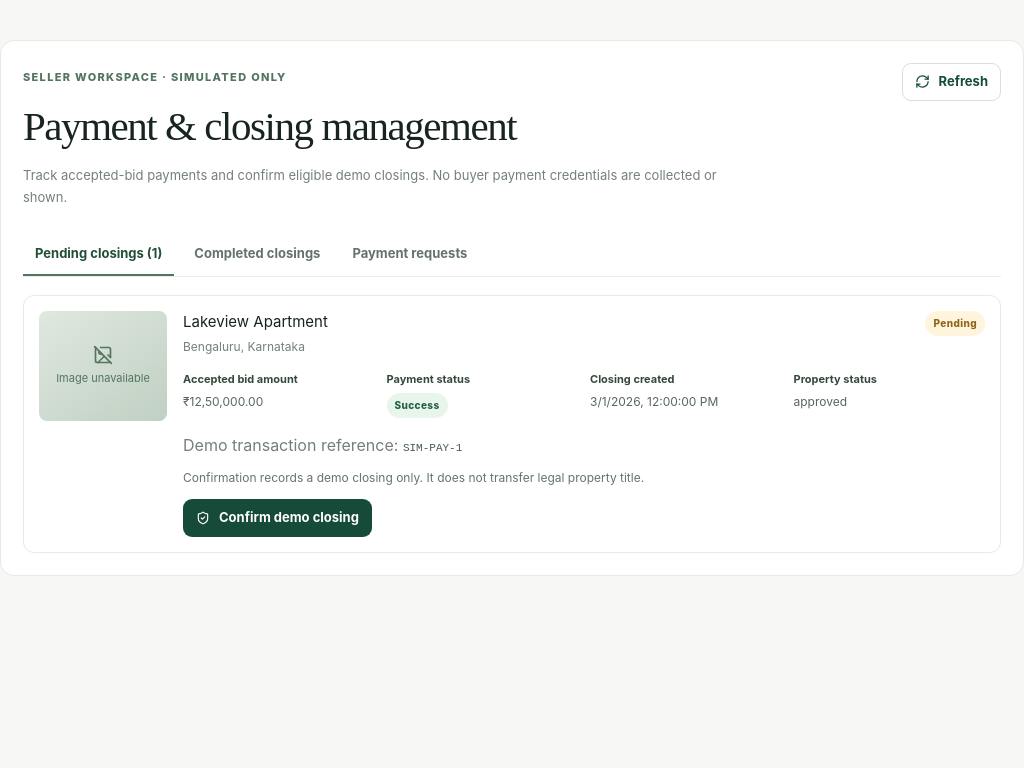
Test: SellerClosingPanel › requires explicit seller confirmation and refreshes the closing after completion
Later steps or results of the test are not shown.
Expected: the heading "Lakeview Apartment" is shown, [183,311,328,333]
What coordinates should you click on to do the following:
click the button "Confirm demo closing"
I would click on:
 (277, 518)
Its box is [183,499,372,537].
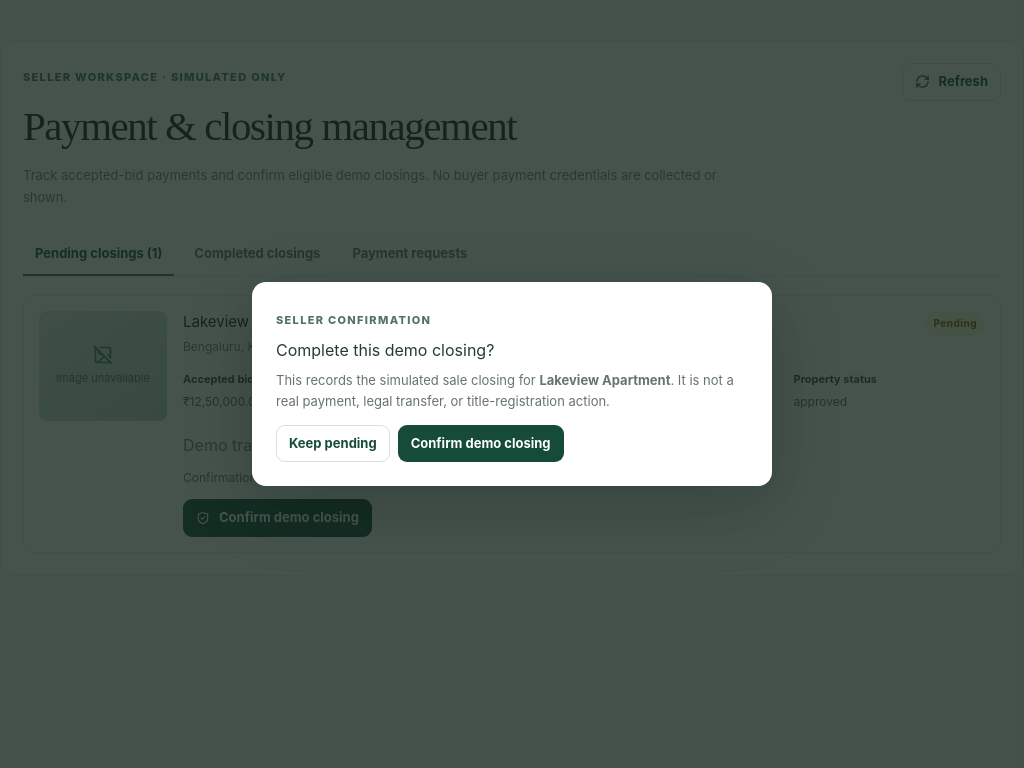
Expected: the text "does not transfer legal property title" is shown, [183,470,644,485]
Result: the dialog is shown at [252,282,772,486]
